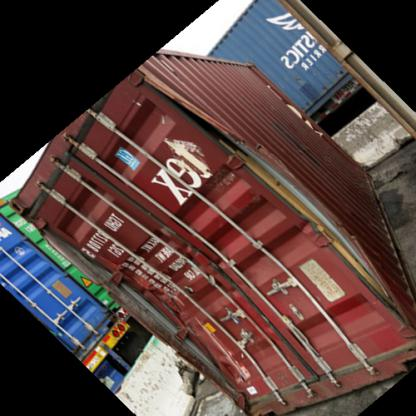Damage: (191, 128, 315, 210), (314, 188, 390, 304)
